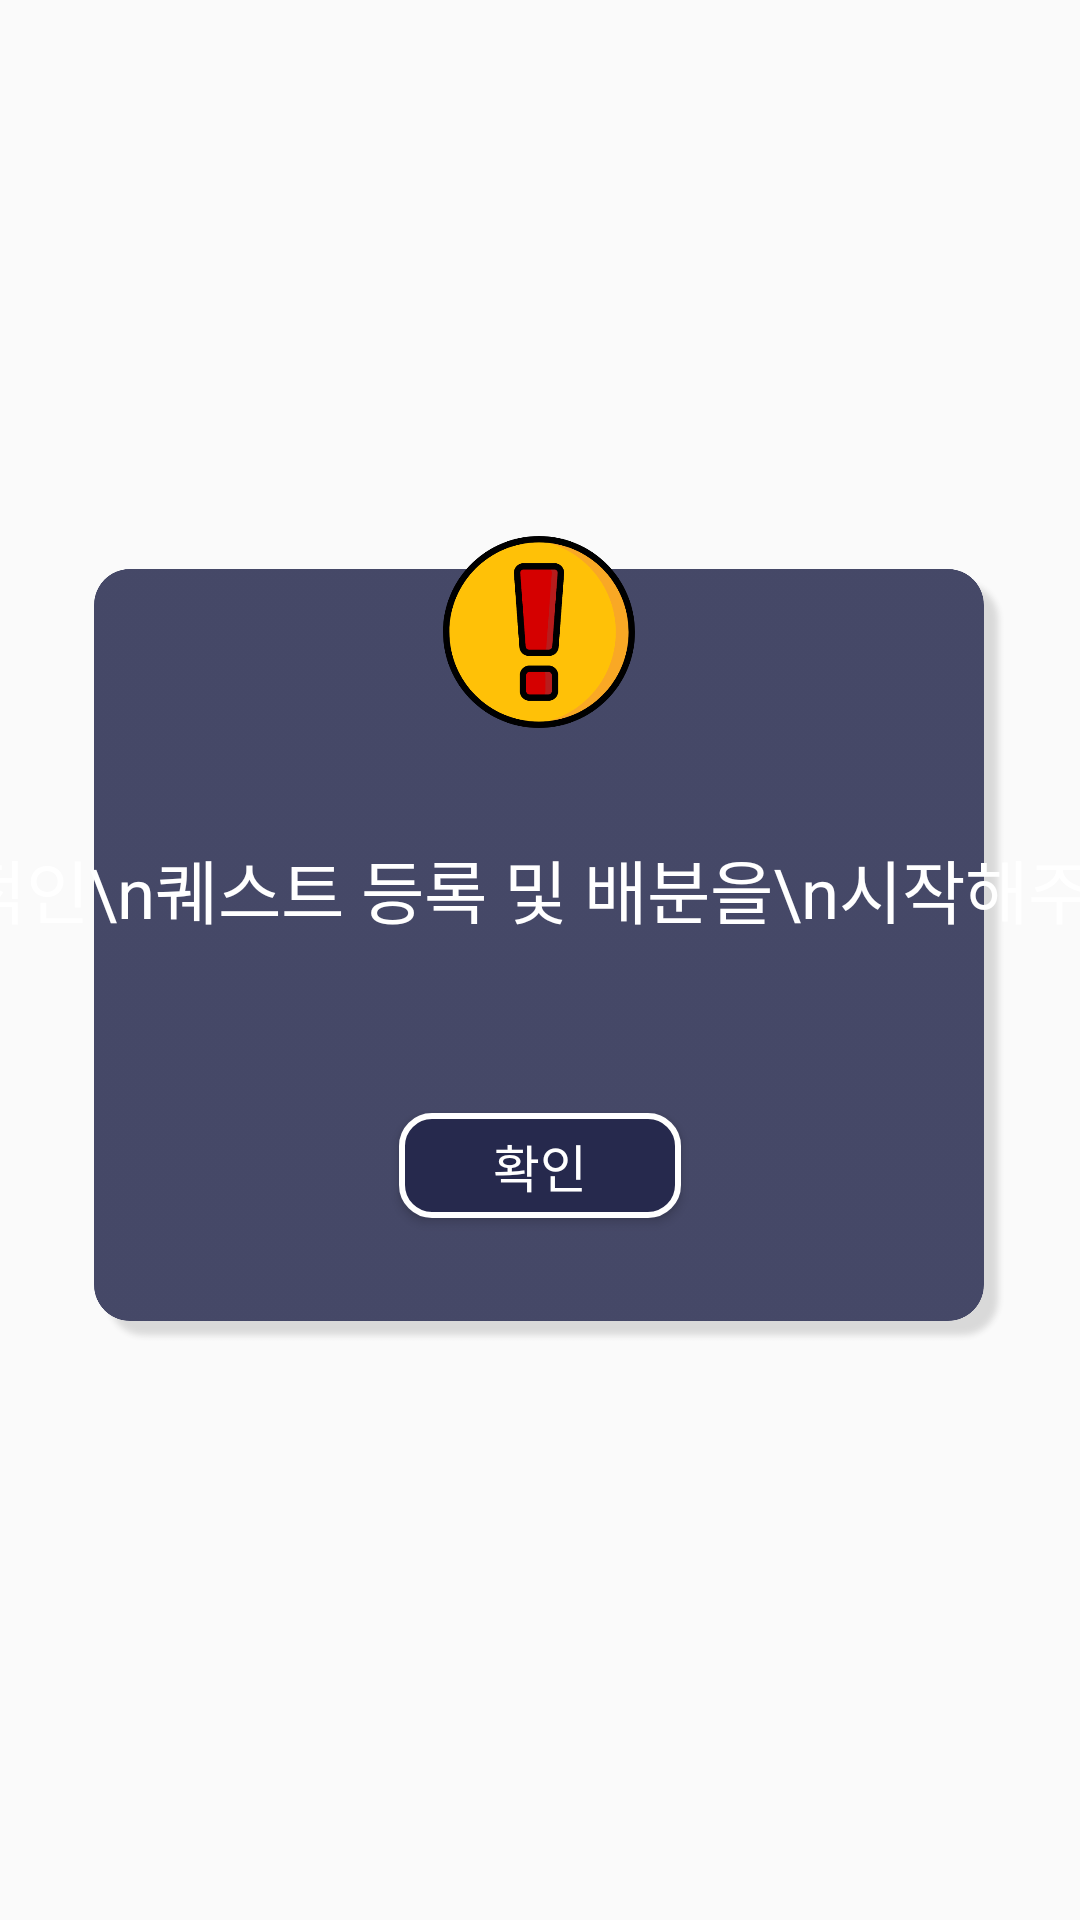

Screen size 1080x1920. Icon name, then its center in pixels as (x=x, y=y):
warn: (x=539, y=632)
